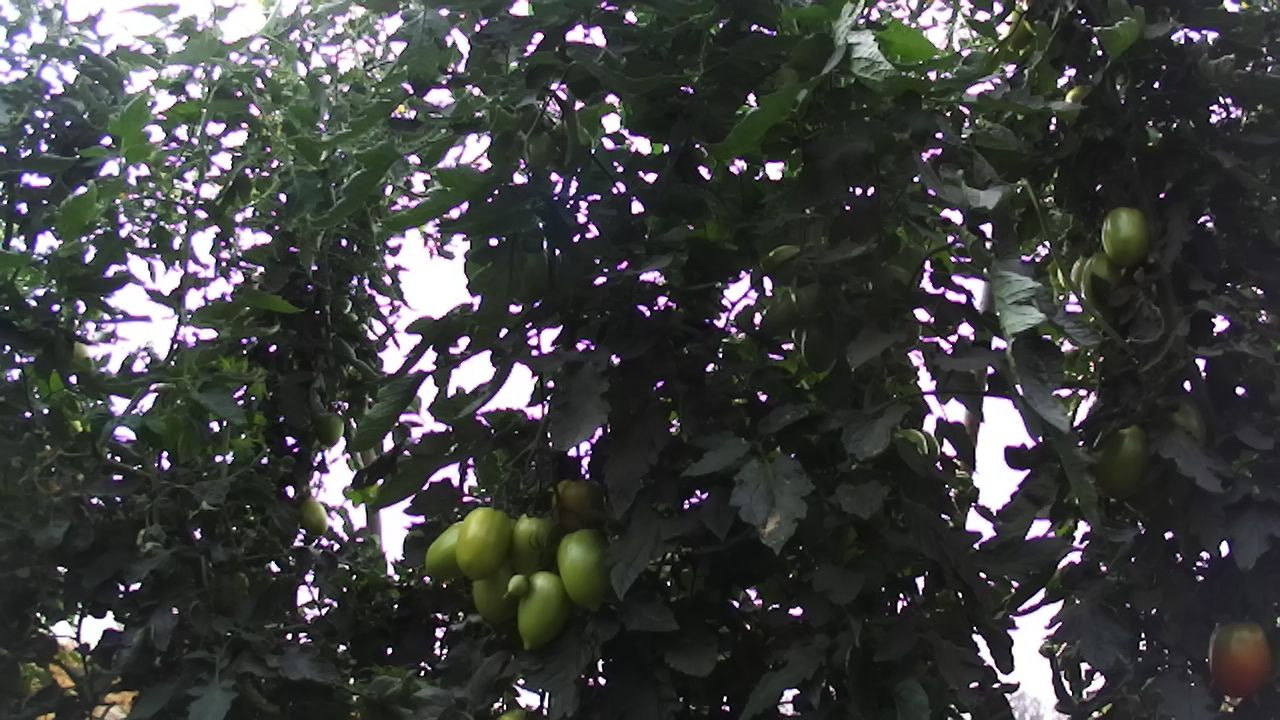tomato: (1089, 416, 1156, 508), (553, 523, 617, 617), (1206, 617, 1274, 702), (513, 565, 574, 655), (451, 503, 516, 584), (510, 506, 563, 576), (1097, 201, 1149, 270), (314, 407, 348, 449), (296, 496, 328, 538)
